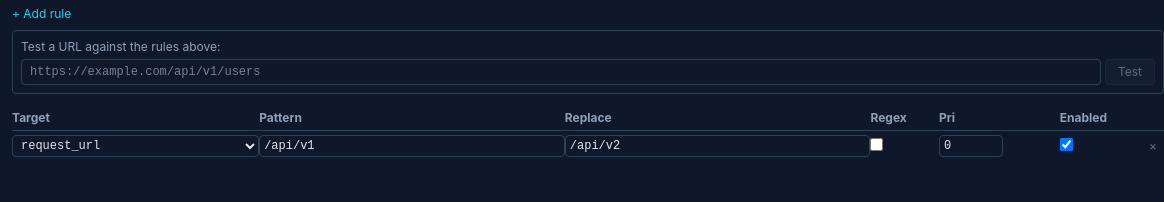
MatchReplaceEditor › clicking Test with a sample URL shows the engine's result
The width and height of the screenshot is (1164, 202).
Expected: the row with test id "match-replace-row-0" is shown, [12,130,1163,161]
In the field with test id "match-replace-editor-test-url": (561, 72) [21,59,1101,85], type "https://x.test/api/v1/users"
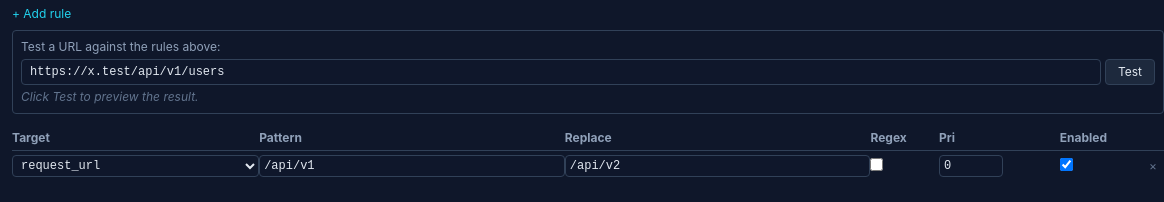
Click Test.
Click the button with test id "match-replace-editor-test-button": (1130, 72) [1105,59,1155,85]
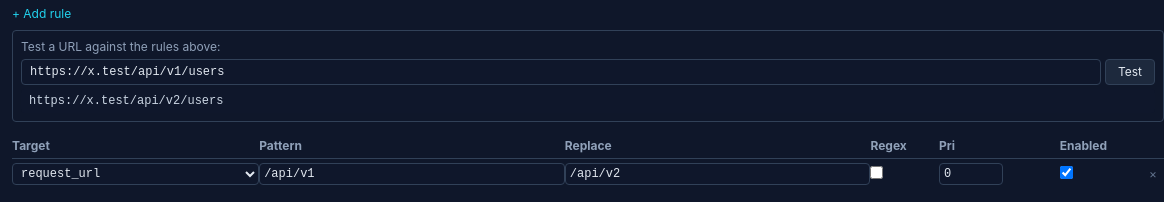
Now the text with test id "match-replace-editor-test-result" reads "https://x.test/api/v2/users", box [29,94,223,108]
